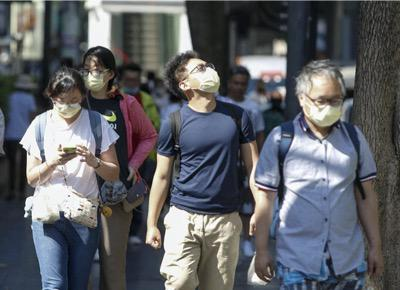mask_weared_incorrect: (122, 73, 139, 96)
with_mask: (302, 89, 344, 127), (185, 62, 219, 95), (52, 91, 82, 120), (82, 61, 109, 91)
without_mask: (229, 76, 248, 98)
